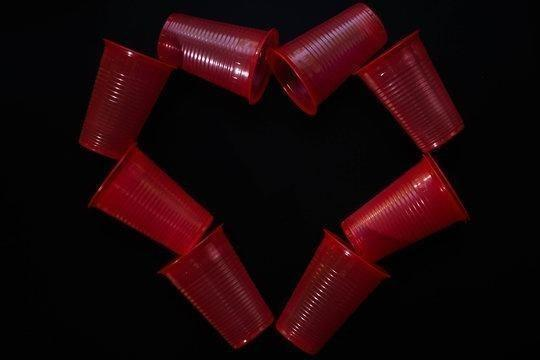cup-disposable: (273, 228, 390, 359), (85, 143, 213, 259), (157, 224, 276, 347), (340, 153, 472, 263), (356, 30, 466, 155), (76, 35, 179, 164), (271, 5, 386, 114), (156, 10, 279, 108)
